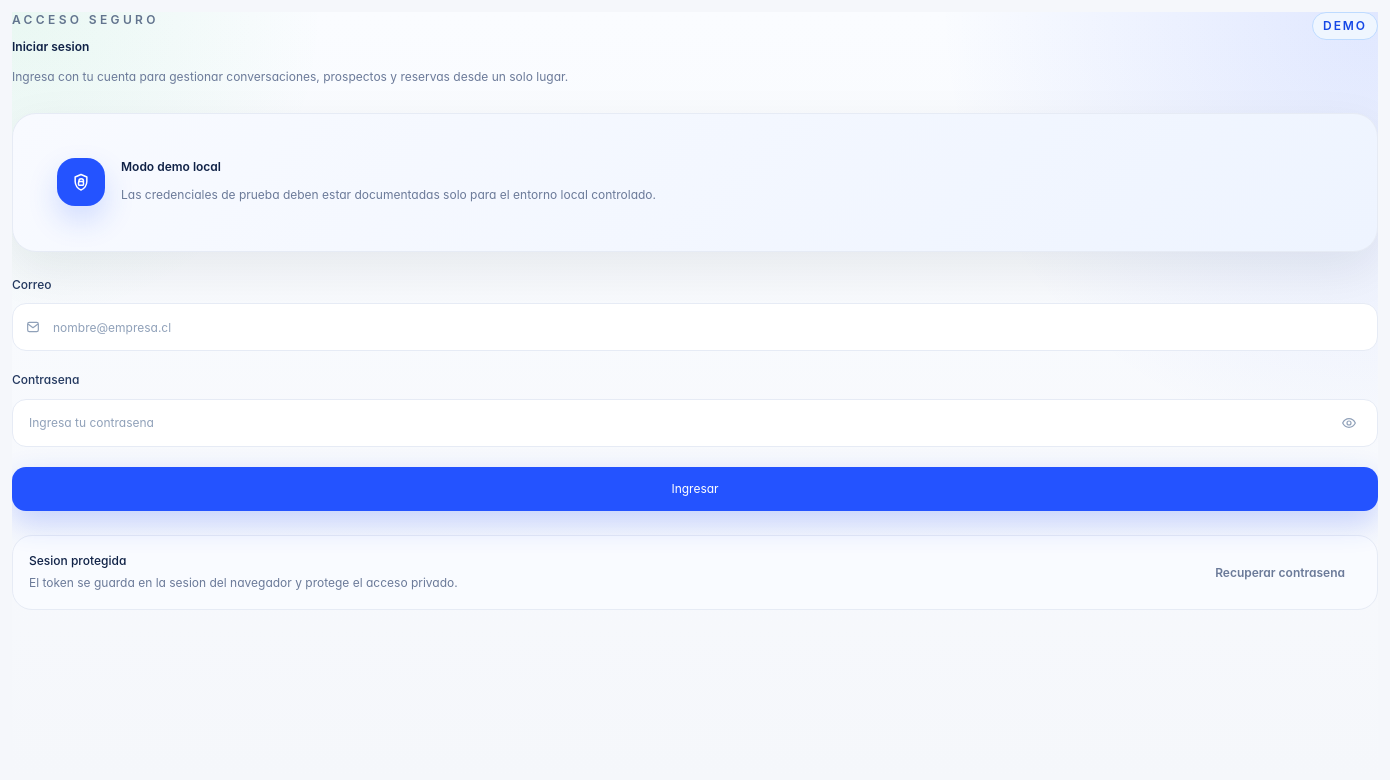
Test: LoginPage › shows validation messages for invalid credentials
Clear the field labelled "Correo" at (709, 328), box x1=41 y1=304 x2=1377 y2=350
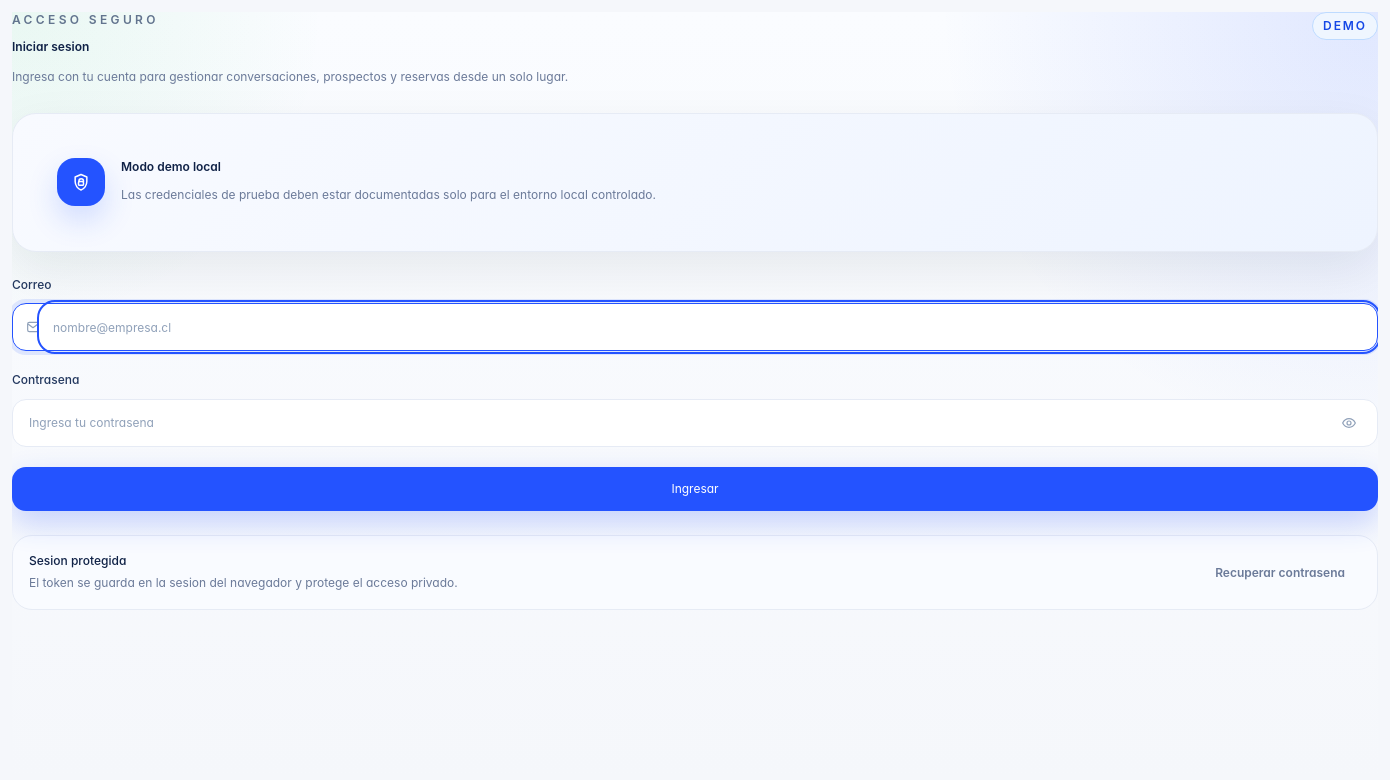
Clear the password field labelled "Contrasena" at (695, 423), box x1=13 y1=400 x2=1377 y2=446
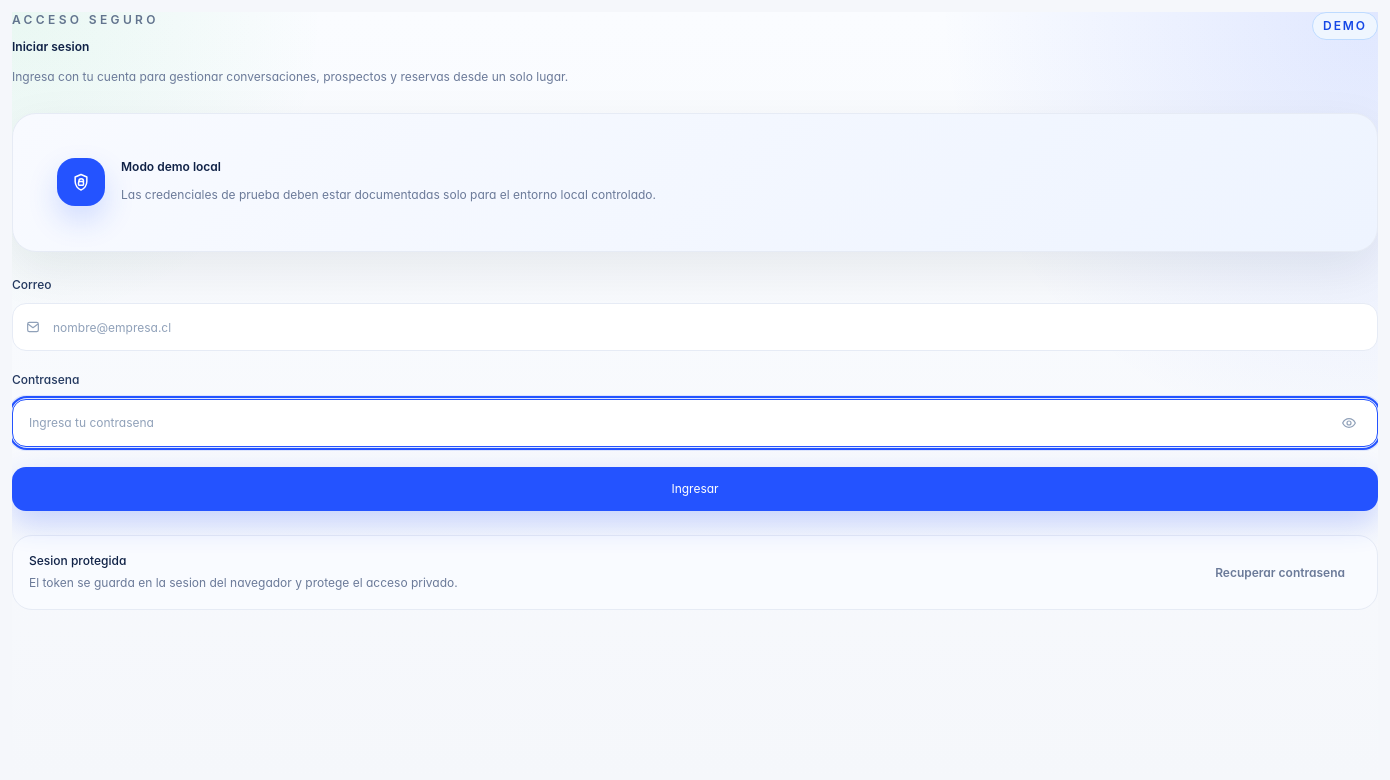
Click the button "Ingresar" at (695, 489), box x1=12 y1=467 x2=1378 y2=511
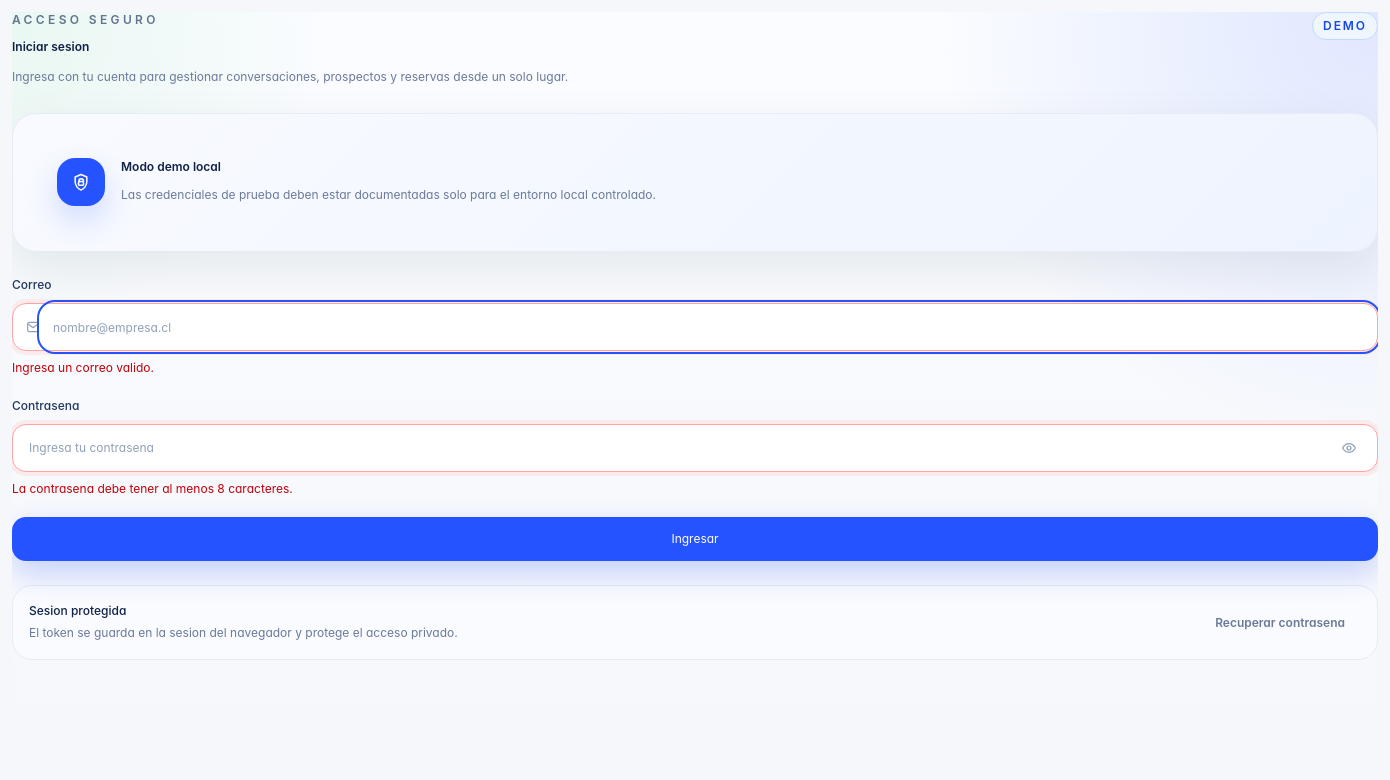
Expected: the text "Ingresa un correo valido." is shown, x1=12 y1=360 x2=154 y2=376
Expected: the text "La contrasena debe tener al menos 8 caracteres." is shown, x1=12 y1=481 x2=293 y2=496
